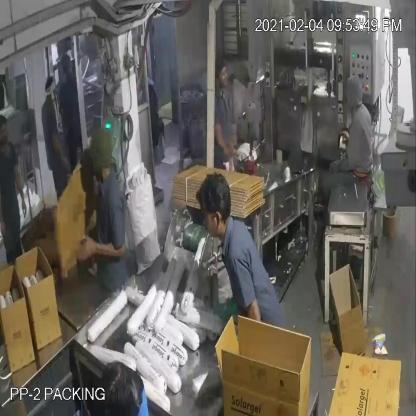no_glove: (68, 230, 135, 274), (12, 154, 32, 223), (210, 113, 234, 165), (50, 129, 74, 174)
